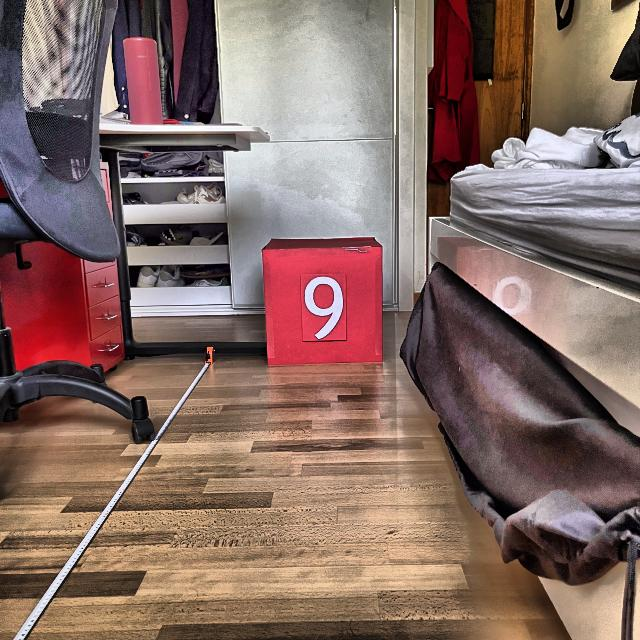nine: (304, 275, 344, 339)
red box: (262, 237, 388, 367)
